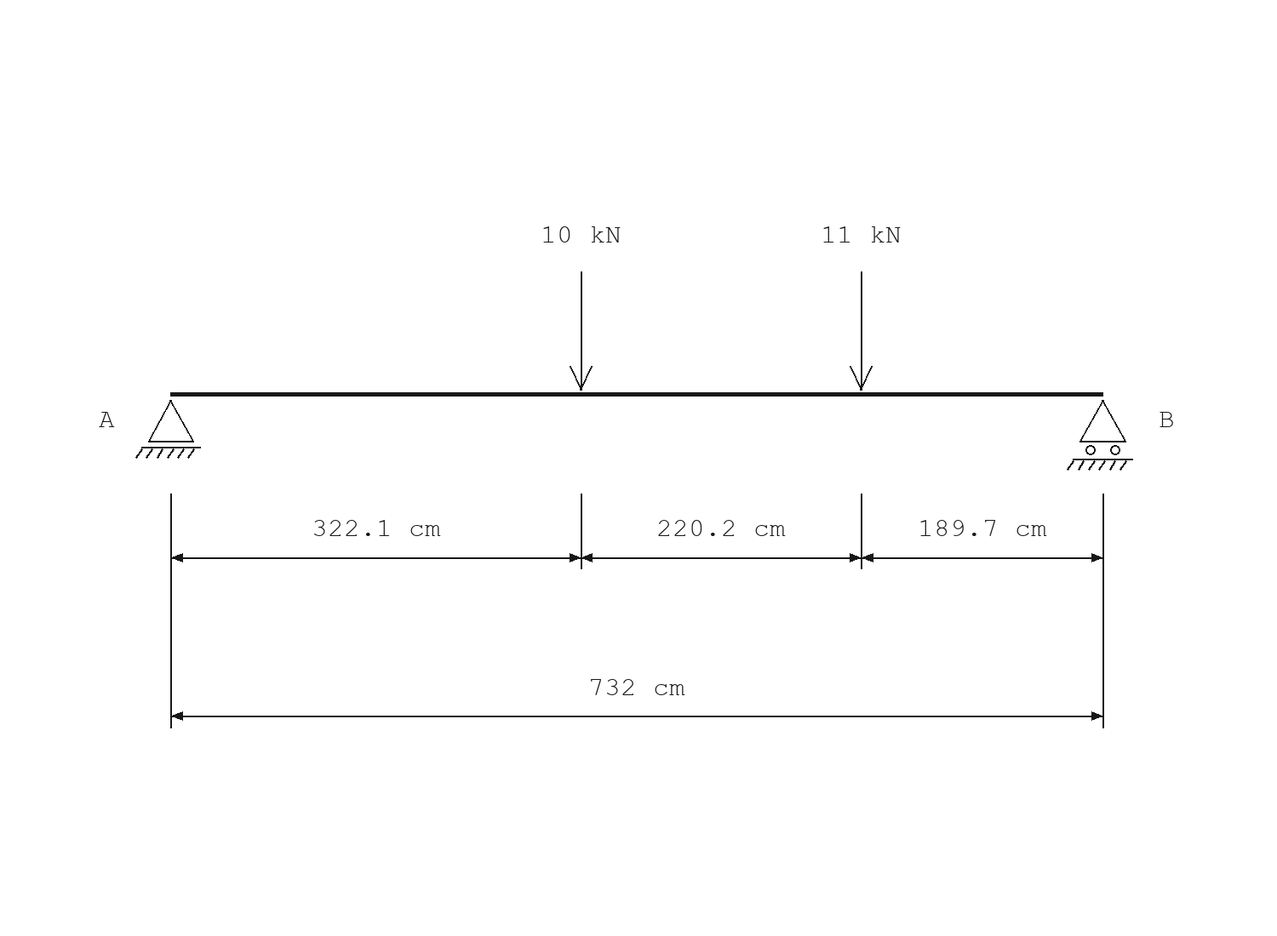pin_support: (135, 400, 201, 459)
point_load: (570, 271, 593, 391), (850, 271, 873, 391)
roller_support: (1067, 400, 1133, 471)
